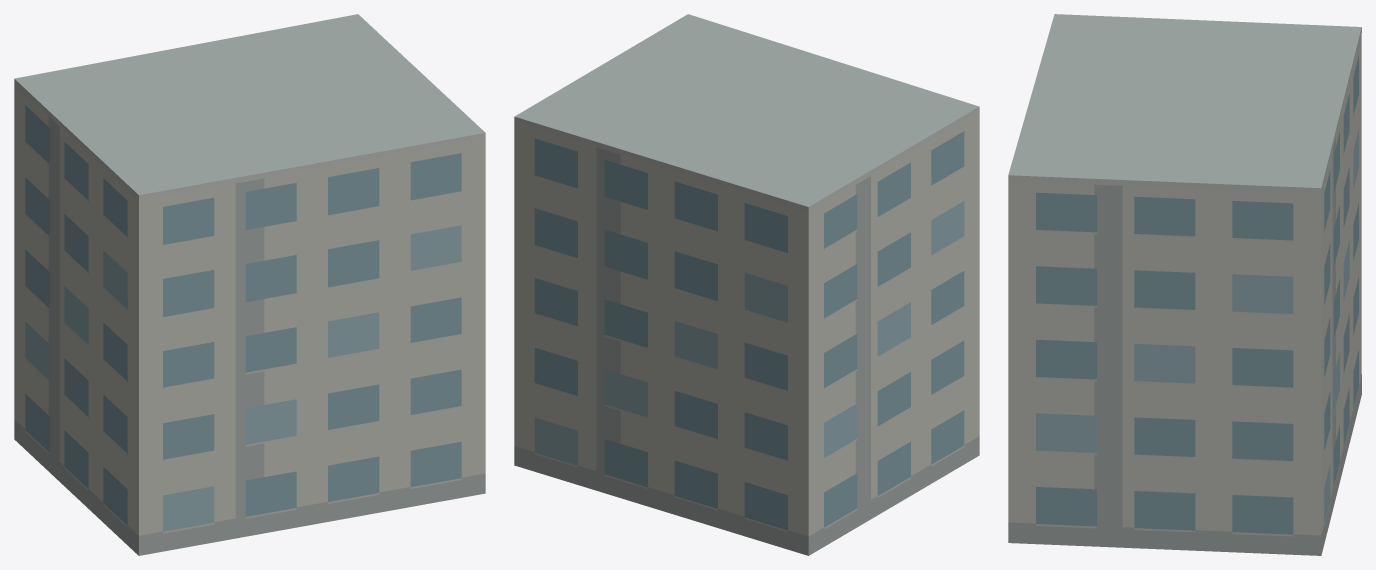
Rendered from survey-upis-32767784.glb.
The picture shows the model from 3 angles, left to right: view 1: azimuth 30°, elevation 25°; view 2: azimuth 150°, elevation 25°; view 3: azimuth 270°, elevation 25°; orthographic projection. The views are drawn at different scales.
Visible parts, largest first — view 1: survey-upis-32767784.tmp; view 2: survey-upis-32767784.tmp; view 3: survey-upis-32767784.tmp.
Boxes of the visible parts, <box> form: survey-upis-32767784.tmp: <box>14,14,485,555</box>; survey-upis-32767784.tmp: <box>514,14,979,555</box>; survey-upis-32767784.tmp: <box>1008,14,1361,555</box>.
Bounding box in the file's own units: 15.5 × 15.25 × 13.3.
